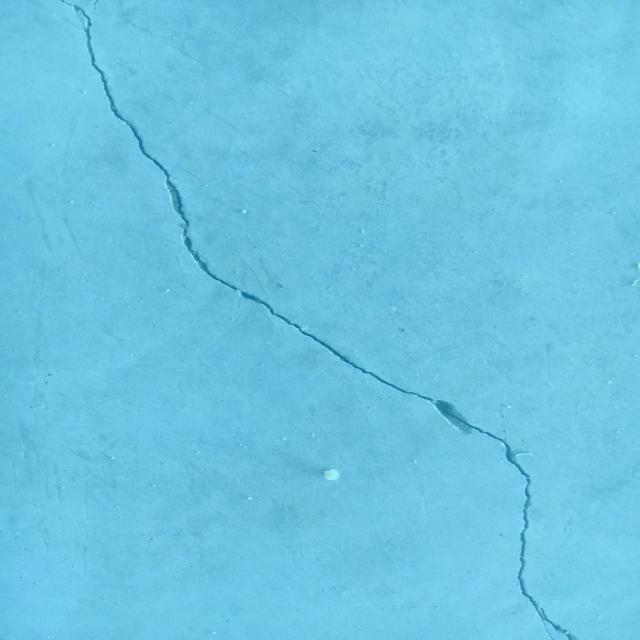crack: (61, 0, 578, 640), (91, 0, 98, 19)
